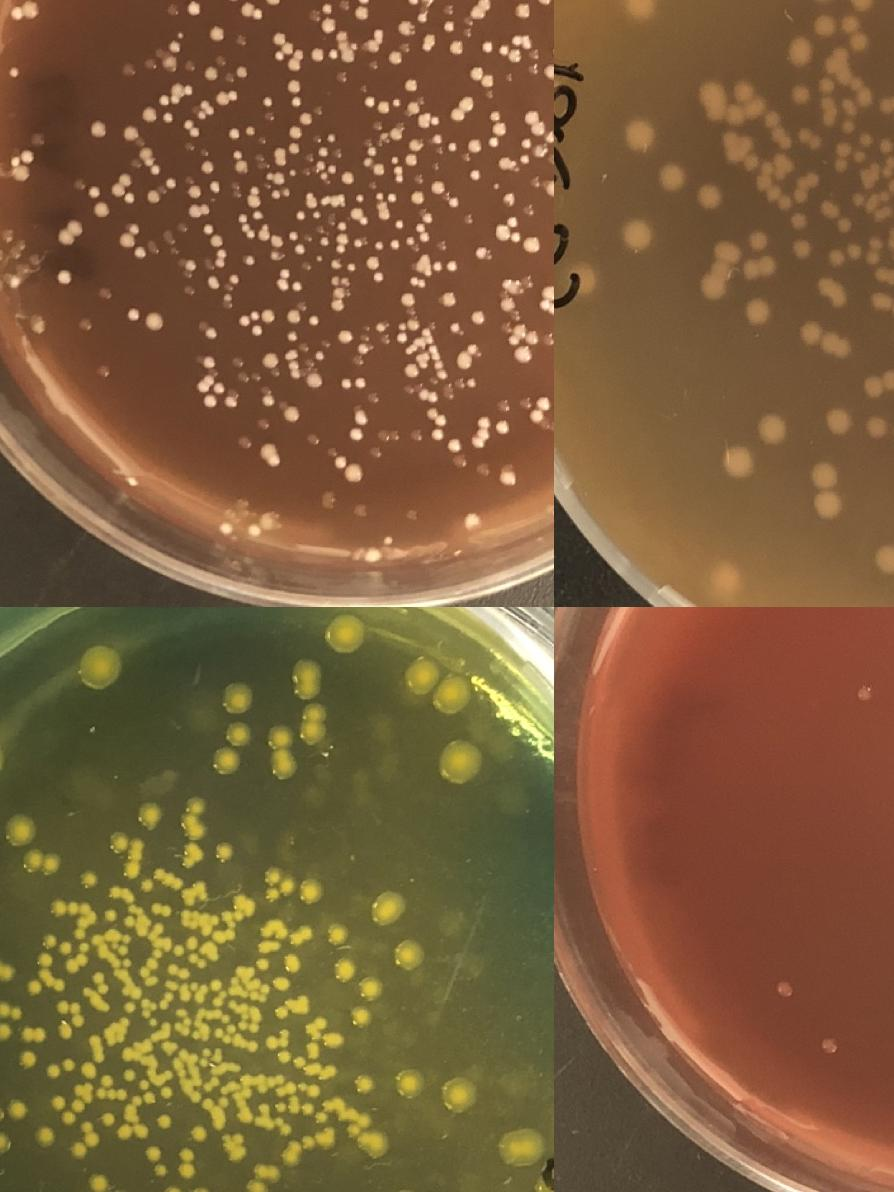assalmonicida: (201, 221, 230, 270), (286, 109, 315, 156), (238, 306, 276, 339), (198, 376, 226, 408), (274, 267, 306, 293), (334, 454, 362, 482), (12, 147, 36, 179), (8, 0, 40, 22), (58, 218, 84, 245), (524, 108, 548, 136), (469, 64, 495, 88), (430, 412, 450, 442), (451, 96, 474, 122), (286, 77, 304, 108), (110, 172, 132, 197), (188, 200, 214, 219), (469, 0, 492, 18), (541, 283, 554, 314), (492, 222, 512, 240), (452, 350, 471, 368), (534, 395, 552, 413), (513, 344, 531, 362), (499, 467, 517, 485), (463, 511, 481, 529), (320, 16, 338, 34), (282, 404, 300, 422), (260, 351, 278, 369), (260, 442, 278, 460), (146, 312, 164, 330), (90, 120, 108, 138), (306, 370, 323, 388), (123, 124, 140, 142), (523, 236, 541, 252), (498, 155, 516, 171), (466, 137, 484, 153), (200, 354, 218, 370), (186, 183, 204, 199), (118, 230, 136, 246), (524, 329, 541, 345), (352, 408, 369, 424), (328, 296, 345, 312), (306, 312, 323, 328), (271, 30, 288, 46), (268, 233, 285, 249), (233, 159, 250, 175), (218, 520, 235, 536), (214, 89, 231, 105), (204, 273, 221, 289), (500, 295, 516, 311), (496, 418, 512, 434), (450, 39, 466, 55), (444, 258, 460, 274), (430, 178, 446, 194), (418, 112, 434, 128), (408, 136, 424, 152), (400, 290, 416, 306), (398, 18, 414, 34), (388, 125, 404, 141), (376, 98, 392, 114), (364, 254, 380, 270), (348, 425, 364, 441), (338, 328, 354, 344), (304, 194, 320, 210), (286, 55, 302, 71), (284, 328, 300, 344), (260, 94, 276, 110), (228, 270, 244, 286), (222, 394, 238, 410), (206, 323, 222, 339), (160, 54, 176, 70), (142, 106, 158, 122), (94, 201, 110, 217), (56, 269, 72, 285), (30, 316, 46, 332), (402, 362, 420, 376), (442, 292, 457, 308), (388, 49, 404, 64), (349, 205, 364, 221), (340, 167, 356, 182), (340, 46, 356, 61), (245, 192, 260, 208), (235, 64, 250, 80), (209, 24, 224, 40), (166, 36, 181, 52), (87, 183, 102, 199), (515, 2, 532, 16), (246, 524, 263, 538), (239, 1, 256, 15), (509, 49, 524, 64), (310, 46, 325, 61), (285, 306, 300, 321), (126, 306, 141, 321), (204, 65, 218, 81), (200, 158, 214, 174), (146, 188, 162, 202), (132, 245, 146, 261), (8, 63, 22, 79), (471, 310, 486, 324), (448, 436, 463, 450), (410, 189, 424, 204), (186, 0, 201, 14), (544, 63, 554, 79), (264, 0, 282, 6), (355, 0, 370, 5)
pddamselae: (698, 238, 740, 298), (754, 158, 794, 211), (809, 460, 842, 519), (833, 132, 875, 174), (801, 321, 851, 356), (866, 234, 894, 287), (762, 106, 794, 152), (842, 12, 870, 52), (822, 200, 854, 233), (861, 368, 894, 399), (827, 240, 862, 268), (877, 136, 894, 193), (818, 76, 837, 127), (758, 413, 786, 444), (824, 404, 852, 434), (723, 445, 751, 475), (741, 254, 777, 277), (841, 94, 861, 135), (798, 125, 826, 150), (570, 264, 598, 288), (624, 221, 650, 246), (812, 14, 838, 38), (786, 39, 812, 63), (744, 299, 770, 323), (694, 183, 720, 207), (658, 165, 684, 189), (627, 120, 653, 144), (874, 542, 894, 572), (791, 84, 811, 106), (726, 103, 746, 125), (734, 79, 752, 102), (749, 231, 769, 251), (868, 417, 887, 438), (794, 236, 813, 256), (789, 210, 808, 230), (628, 0, 654, 14), (851, 190, 868, 208), (848, 0, 874, 7)
pdpiscicida: (854, 678, 876, 700), (819, 1034, 841, 1056), (773, 976, 795, 998)
sinniae: (401, 654, 473, 714), (212, 718, 253, 772), (50, 899, 96, 938), (255, 1072, 299, 1112), (324, 611, 366, 651), (77, 646, 117, 686), (212, 995, 243, 1045), (506, 1128, 546, 1166), (441, 740, 481, 778), (200, 1083, 232, 1129), (182, 820, 210, 869), (263, 863, 298, 899), (292, 657, 320, 700), (299, 703, 327, 745), (22, 847, 62, 874), (56, 1000, 85, 1037), (72, 1119, 100, 1157), (38, 951, 65, 990), (246, 1164, 281, 1192), (5, 814, 37, 844), (446, 1079, 476, 1109), (338, 1107, 370, 1135), (224, 893, 256, 921), (96, 1072, 127, 1100), (274, 994, 310, 1018), (279, 923, 314, 946), (396, 1068, 424, 1096), (395, 940, 423, 968), (374, 893, 402, 921), (362, 1129, 390, 1157), (271, 754, 299, 782), (267, 721, 295, 749), (224, 684, 252, 712), (255, 1114, 292, 1135), (236, 1072, 252, 1120), (153, 866, 185, 889), (46, 1056, 76, 1078), (171, 934, 198, 958), (69, 940, 89, 972), (60, 1100, 84, 1126), (292, 1054, 320, 1076), (303, 1015, 327, 1040), (239, 1006, 262, 1032), (224, 1131, 247, 1157), (178, 1146, 196, 1178), (264, 1026, 290, 1048), (188, 1044, 210, 1068), (117, 1122, 150, 1138), (213, 838, 235, 861), (189, 979, 209, 1004), (359, 976, 381, 998), (352, 1072, 374, 1094), (334, 960, 356, 982), (327, 922, 349, 944), (300, 880, 322, 902), (185, 795, 207, 817), (139, 802, 161, 824), (110, 830, 132, 852), (34, 1126, 56, 1148), (7, 1096, 29, 1118), (534, 1168, 554, 1192), (109, 884, 133, 904), (282, 1140, 300, 1166), (166, 962, 192, 980), (87, 1171, 109, 1192), (350, 1004, 372, 1024), (150, 900, 174, 917), (90, 1034, 104, 1063), (0, 1000, 22, 1018), (190, 1022, 210, 1041), (282, 952, 302, 970), (298, 1080, 320, 1096), (93, 971, 108, 994), (132, 1091, 156, 1105), (272, 974, 290, 992), (190, 1124, 208, 1142), (188, 951, 206, 969), (21, 1028, 48, 1040), (322, 1096, 344, 1110), (216, 927, 235, 943), (326, 1032, 344, 1048), (82, 870, 100, 886), (0, 1020, 13, 1042), (156, 1112, 172, 1128), (26, 978, 42, 994), (203, 1076, 218, 1092), (124, 862, 140, 877), (21, 1050, 36, 1066), (154, 1161, 168, 1177), (146, 1144, 160, 1160), (82, 1062, 96, 1078), (50, 1094, 64, 1110), (142, 997, 152, 1019), (0, 1131, 10, 1153), (278, 1049, 292, 1063), (256, 956, 270, 970), (139, 877, 153, 891), (122, 1067, 136, 1081), (103, 908, 117, 922), (102, 1112, 116, 1126), (323, 1064, 338, 1076), (162, 1184, 184, 1192), (320, 1133, 334, 1145), (306, 1042, 320, 1054), (302, 1135, 316, 1147), (160, 1086, 174, 1098), (191, 1186, 213, 1192), (0, 958, 6, 980)
